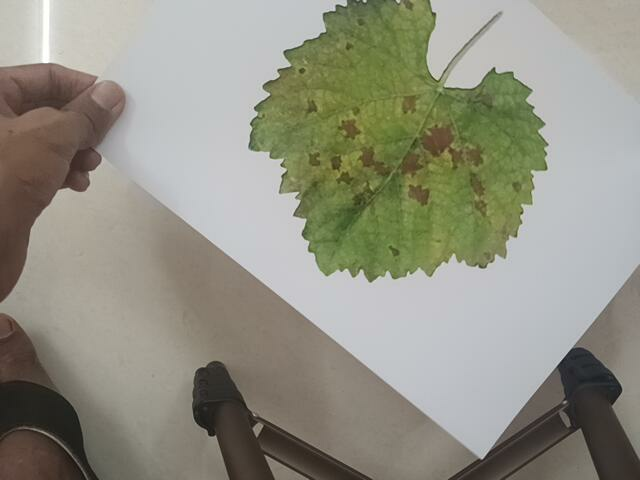Grape_Leaf_Vine_Disease: (219, 1, 565, 336)
